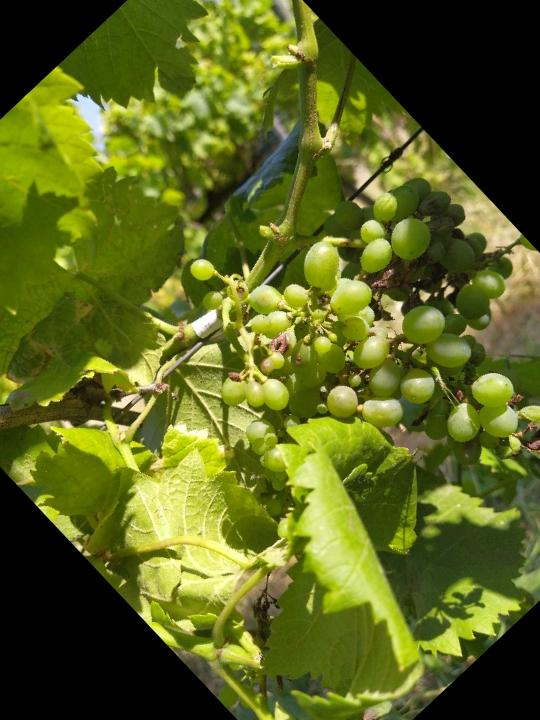grape: (135, 97, 540, 600)
